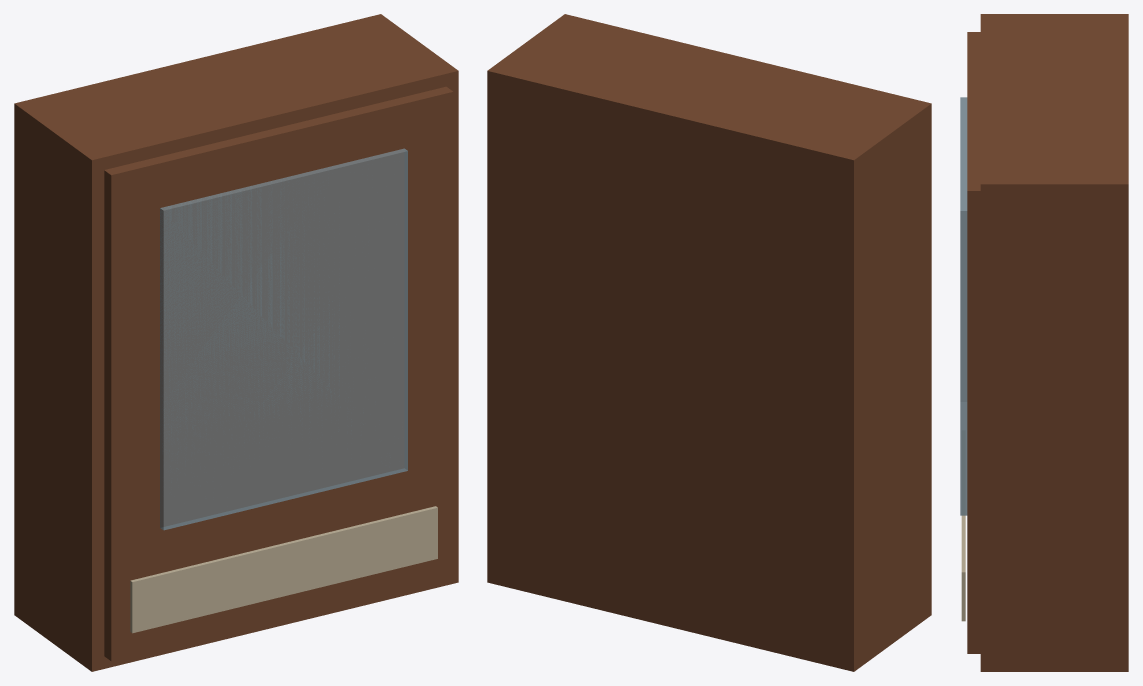
Rendered from PRP_P2_Fire_Cabinet_A.obj.
3 renders of one model, left to right at view 1: azimuth 30°, elevation 25°; view 2: azimuth 150°, elevation 25°; view 3: azimuth 270°, elevation 25°, orthographic. The views are drawn at different scales.
Parts seen in each view (by area): view 1: door, carcass, glass_panel, label_strip; view 2: carcass; view 3: carcass, door, glass_panel, label_strip.
Part boxes in pixels (box(x1,y1,x2,y2)): door: box(104, 86, 453, 661); carcass: box(14, 14, 458, 671); glass_panel: box(160, 148, 407, 530); label_strip: box(130, 506, 437, 633); carcass: box(487, 14, 931, 671); carcass: box(980, 14, 1128, 671); door: box(967, 32, 980, 653); glass_panel: box(960, 97, 967, 515); label_strip: box(961, 515, 965, 621).
Size of the model in its own units: 0.6 by 0.8 by 0.25.
